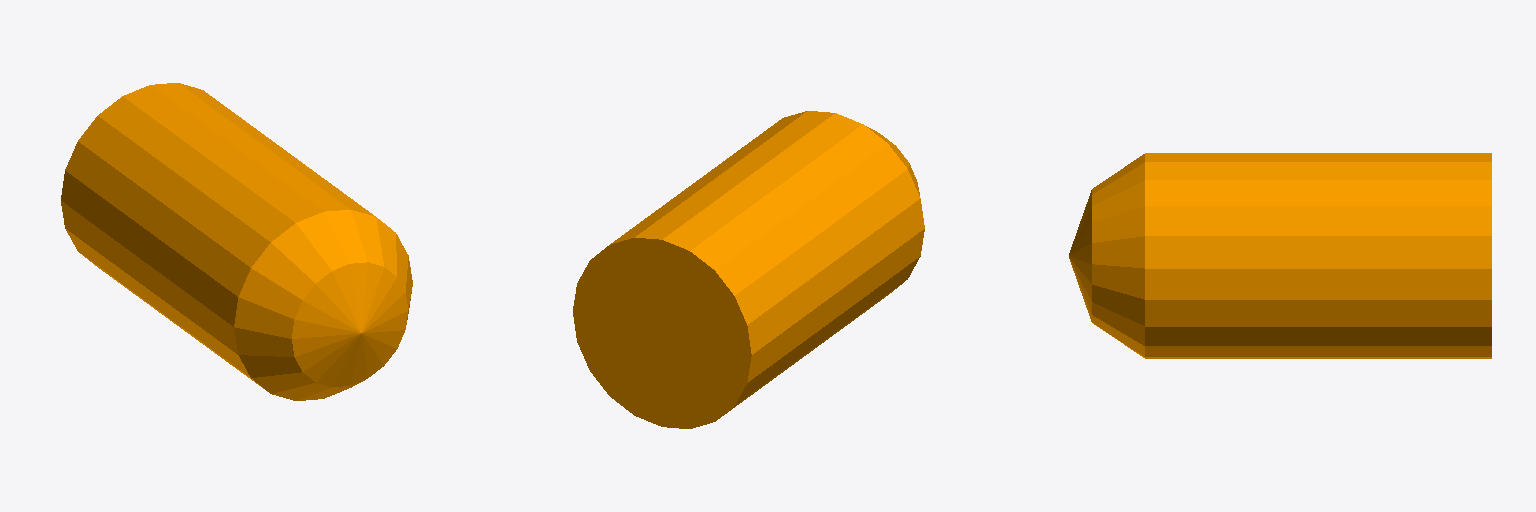
Rendered from bullet.obj.
3 views of the same model, side by side, from view 1: azimuth 30°, elevation 25°; view 2: azimuth 150°, elevation 25°; view 3: azimuth 270°, elevation 25° (orthographic).
Parts seen in each view (by area): view 1: pCylinder1; view 2: pCylinder1; view 3: pCylinder1.
Boxes of the visible parts, x1,y1,x2,y2 form: pCylinder1: [61, 83, 412, 400]; pCylinder1: [573, 111, 924, 428]; pCylinder1: [1069, 153, 1491, 358].
Bounding box in the file's own units: 0.4577 × 0.4577 × 0.9368.